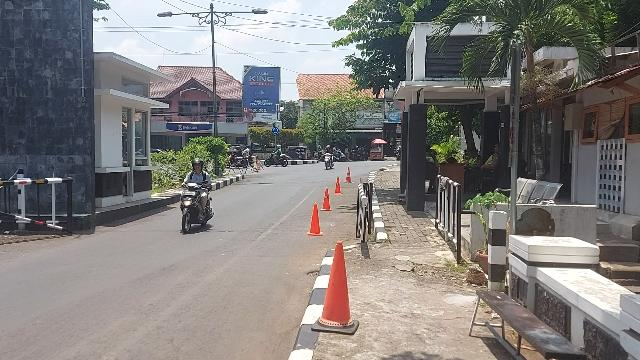helm: (194, 159, 205, 172)
motor: (178, 184, 215, 234)
